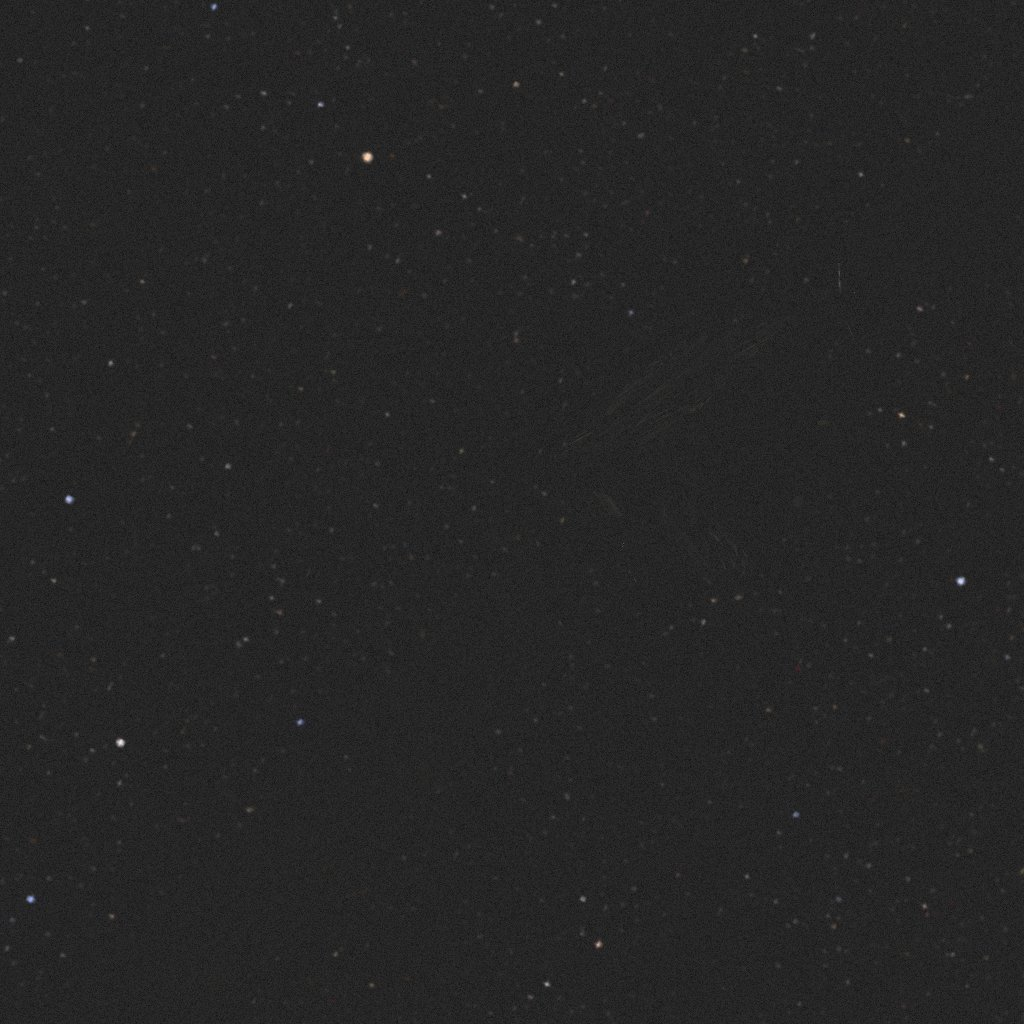smart_1: (45, 53, 1024, 1024)
